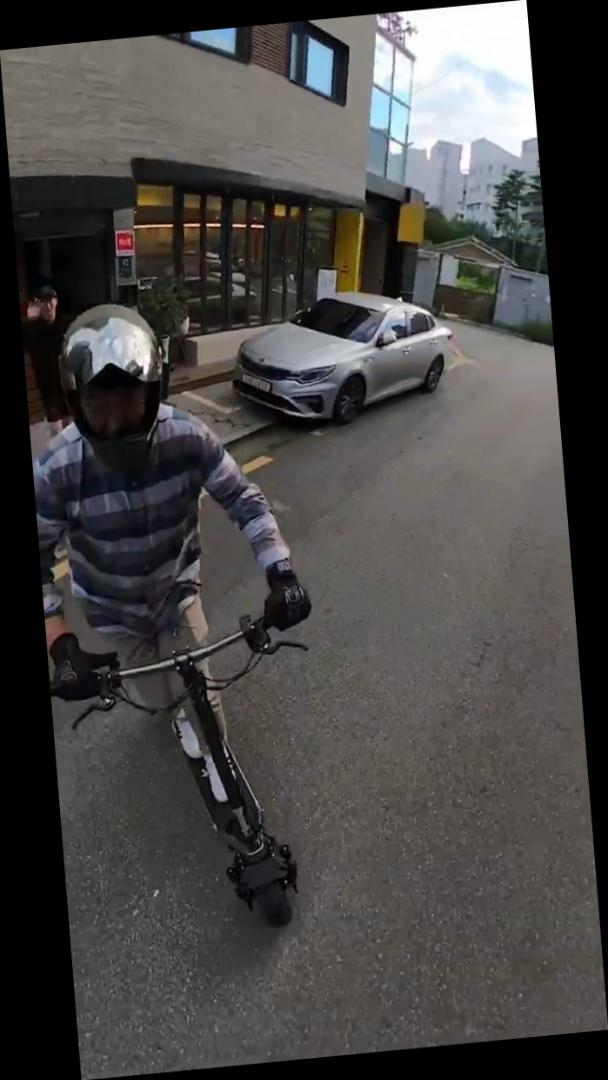helmet: (21, 283, 341, 947)
